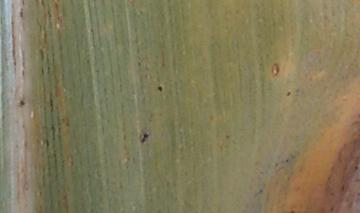tarspot: (48, 91, 56, 113), (253, 187, 264, 198), (140, 132, 149, 145), (17, 98, 26, 107), (223, 131, 231, 141), (156, 84, 164, 93), (284, 89, 292, 98), (18, 7, 24, 18), (88, 26, 95, 35), (327, 206, 335, 213), (136, 60, 143, 68), (340, 182, 346, 191), (284, 157, 290, 166), (352, 164, 359, 171), (20, 1, 26, 7), (288, 209, 296, 213)
